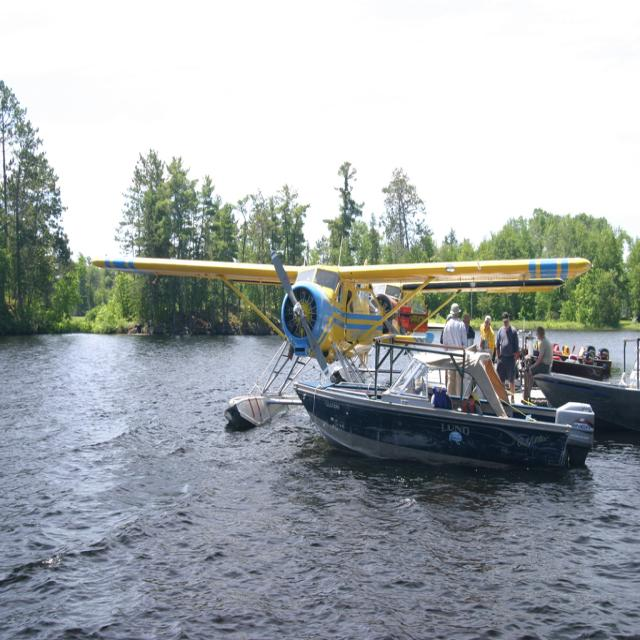Boat: (275, 256, 604, 487), (534, 340, 640, 438), (511, 342, 613, 382)
